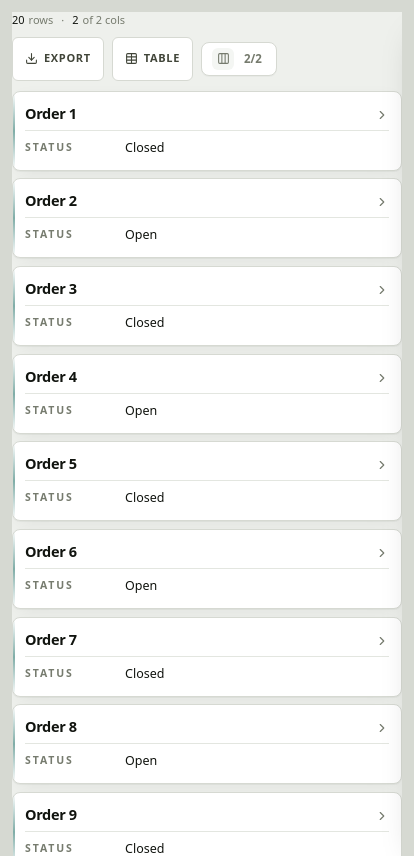
Scenario: DataTable responsive rendering › keeps short mobile lists complete and preserves the Cards/Table representation toggle
The image size is (414, 856).
Step 1. Press Enter in the button "Order 1 Status Closed", box [12,90,402,170]
Step 2. Click the button with aria-label "Switch to table view" → click(152, 58), box [112,36,193,80]
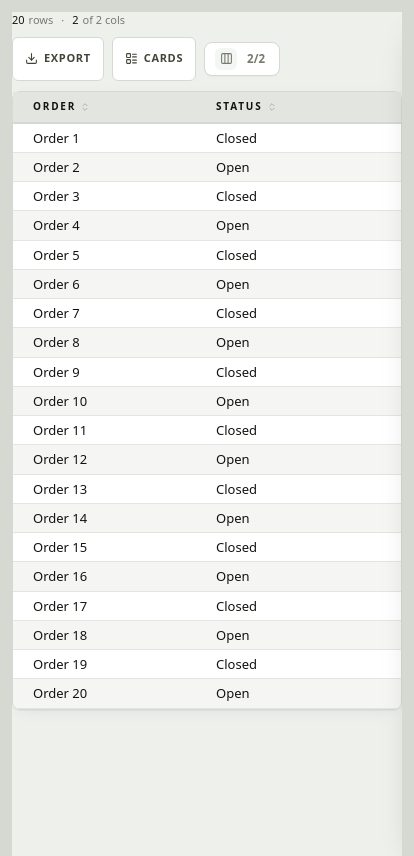
Check: the table is shown
Step 3. Click the button with aria-label "Switch to card view" → click(154, 58), box [112,36,196,80]
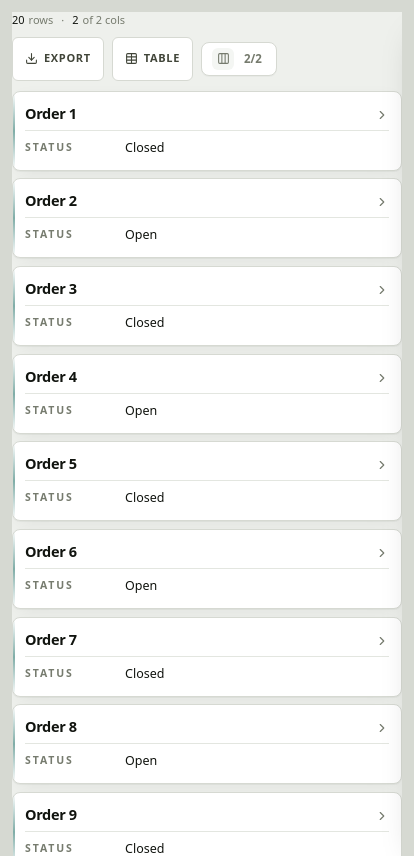
Check: the table is gone
